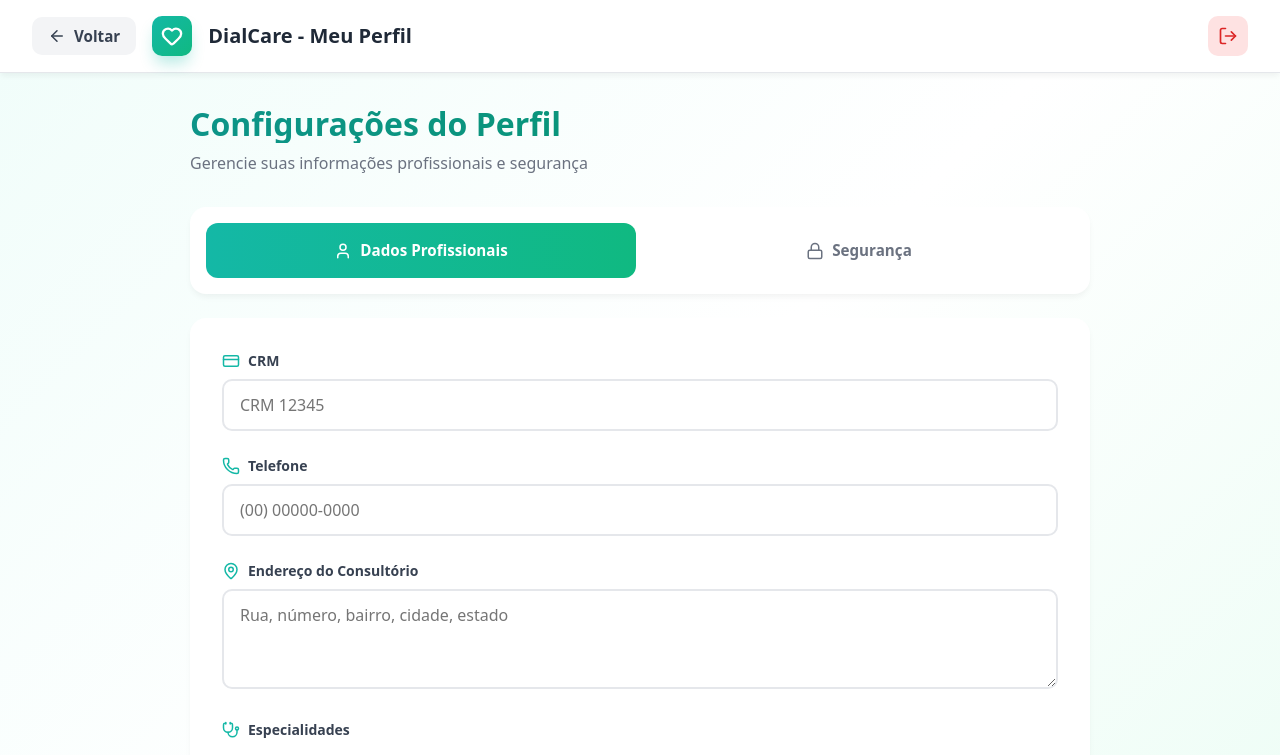
Scenario: DoctorProfile Component › muda para aba de segurança e mostra campos de senha
The image size is (1280, 755).
Check: the button "Dados Profissionais" is shown, box [206,223,636,278]
Click the button "Segurança" at (859, 251), box [644,223,1074,278]
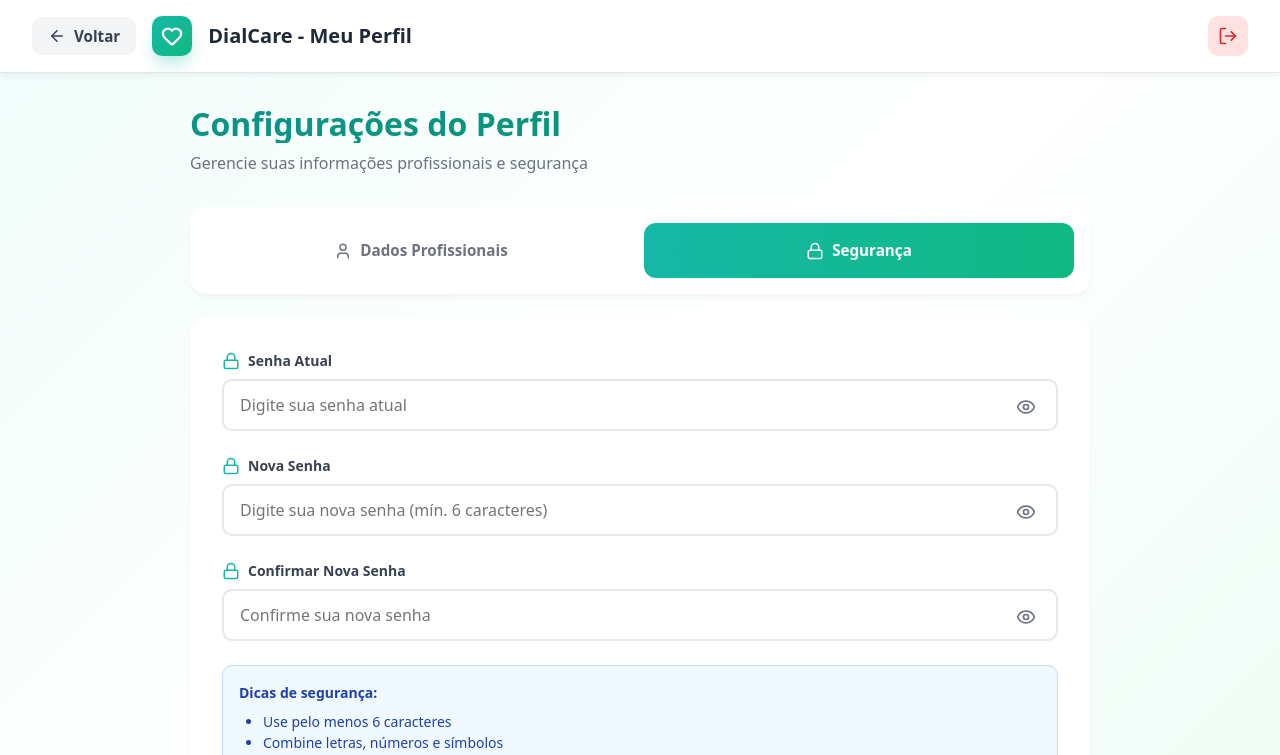
Check: the password field with placeholder "Digite sua senha atual" is shown, box [222,379,1058,431]
Check: the password field with placeholder "Digite sua nova senha (mín. 6 caracteres)" is shown, box [222,484,1058,536]
